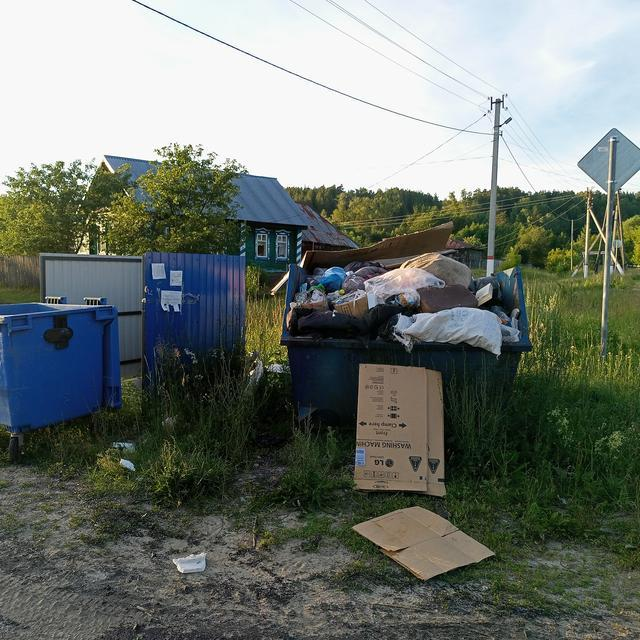Trash_Can_Empty: (0, 304, 115, 432)
